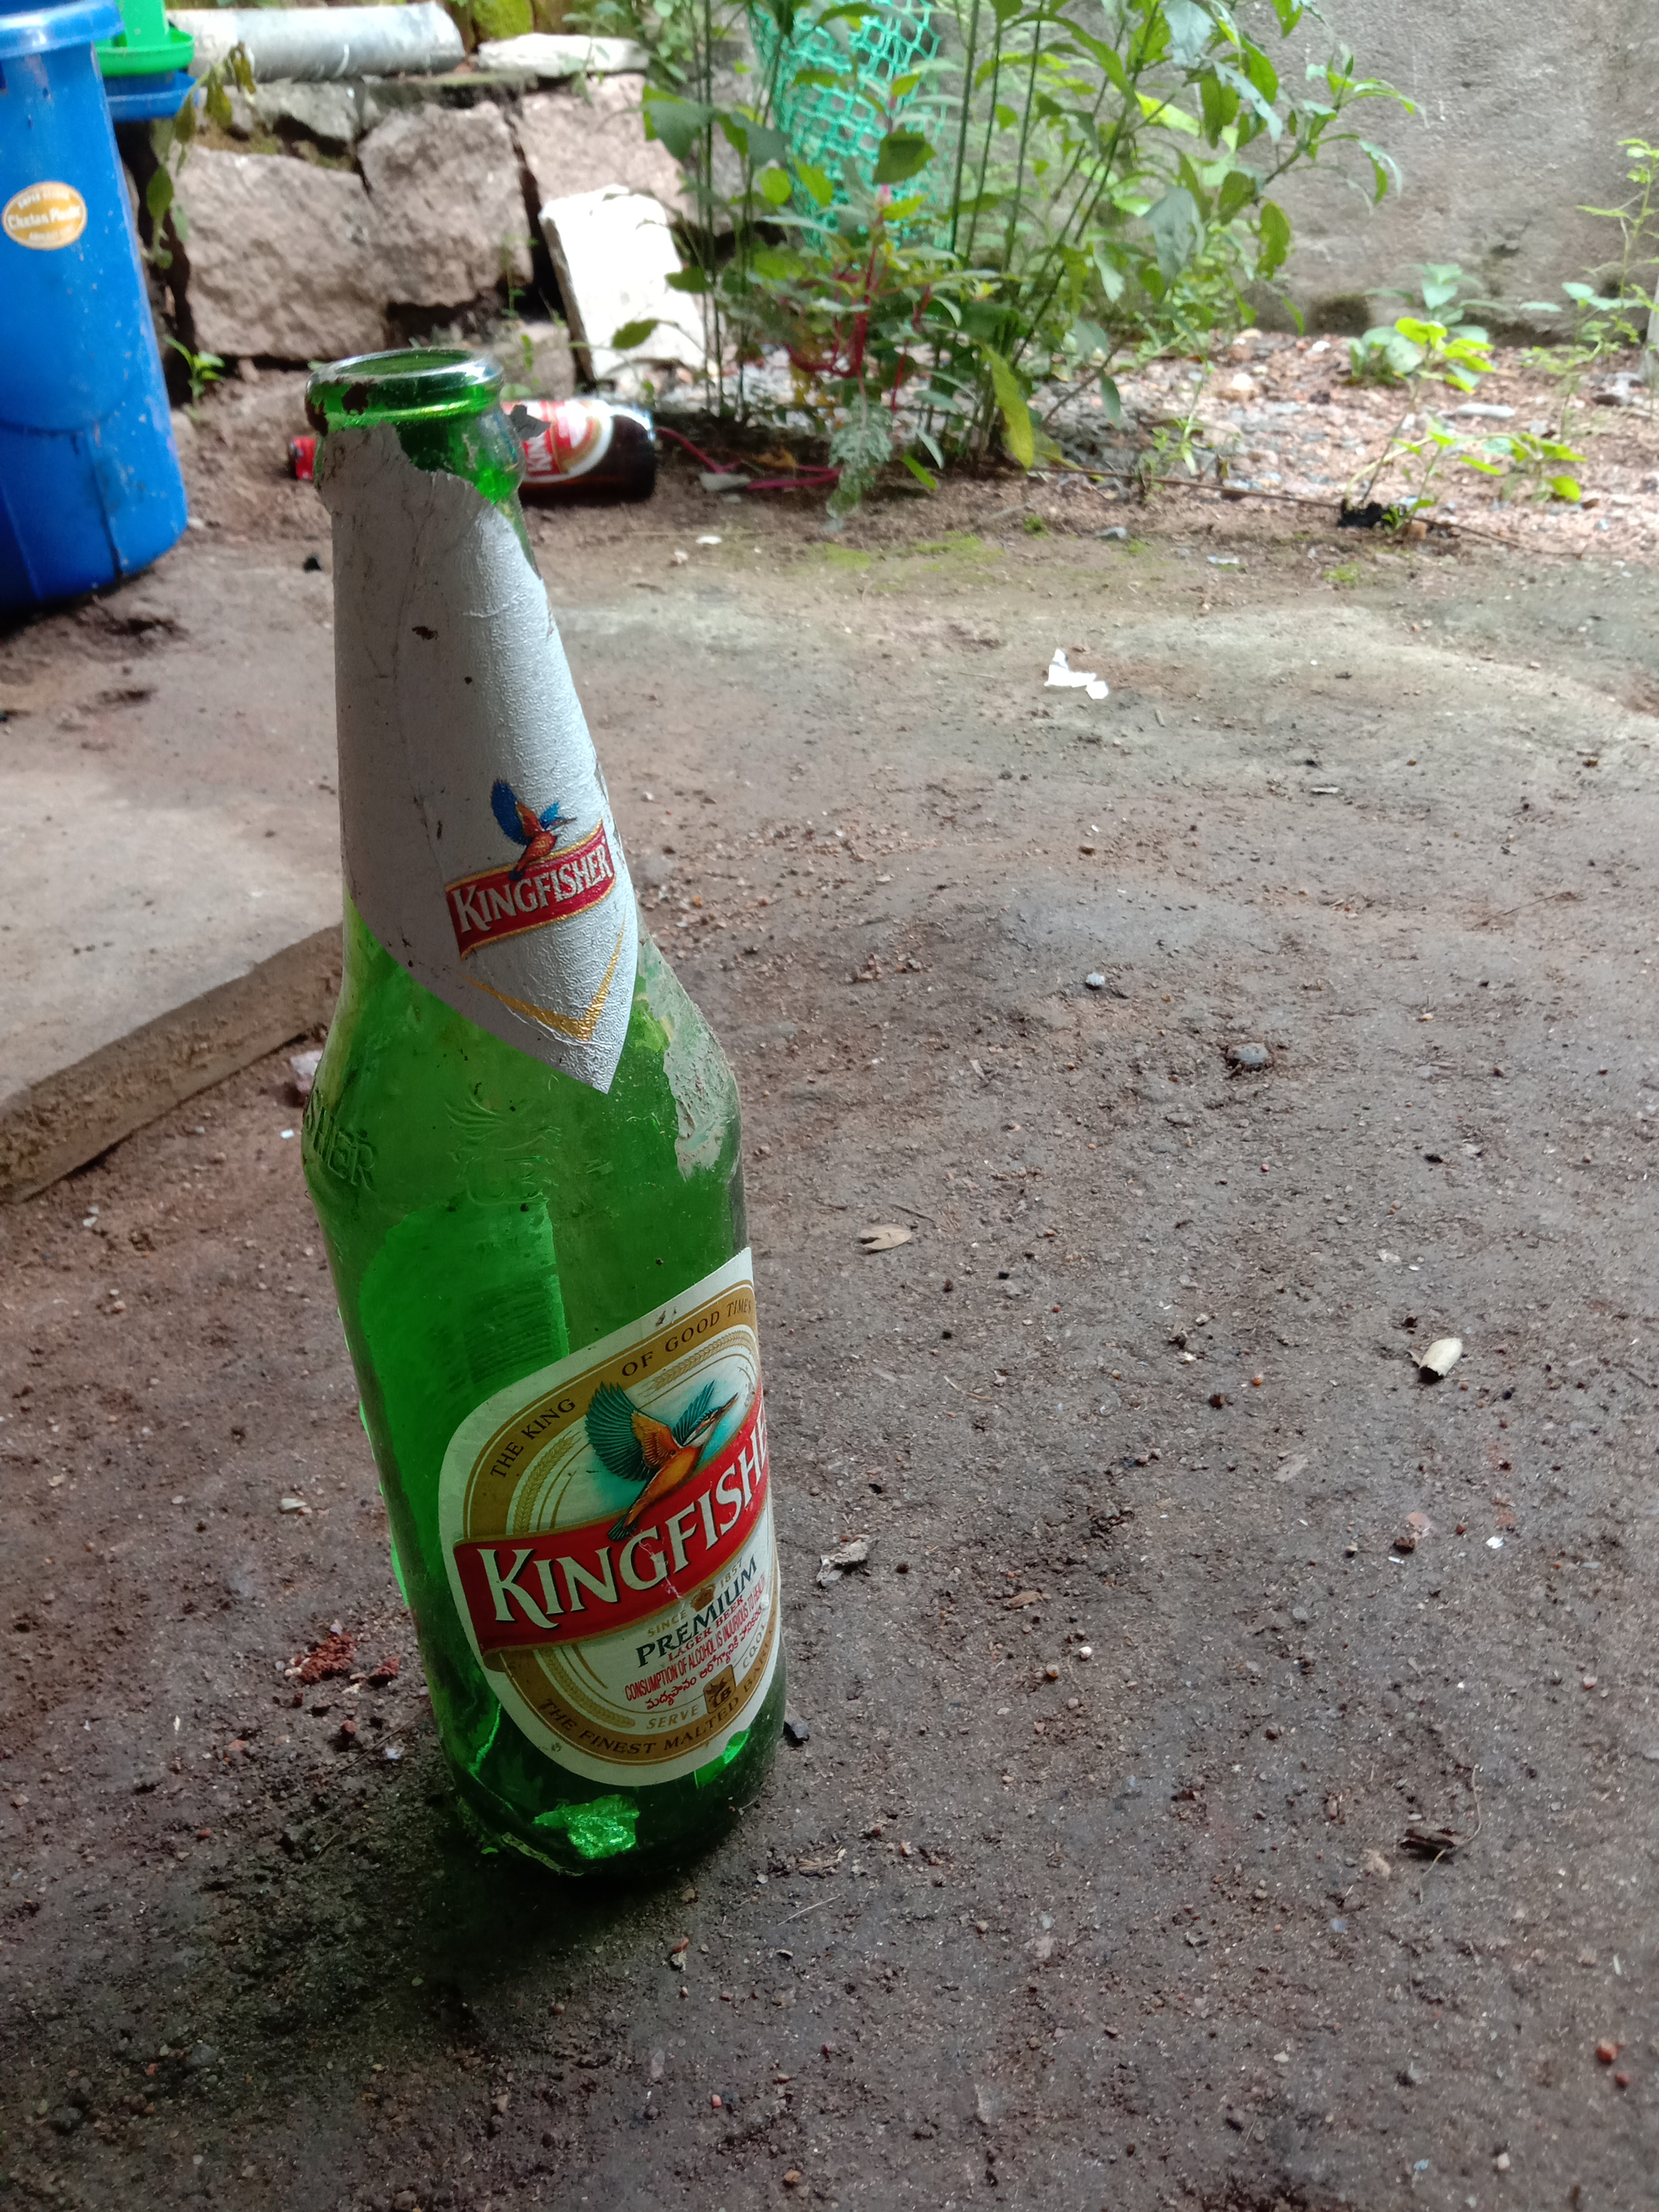glass_bottle: (211, 303, 871, 1951)
